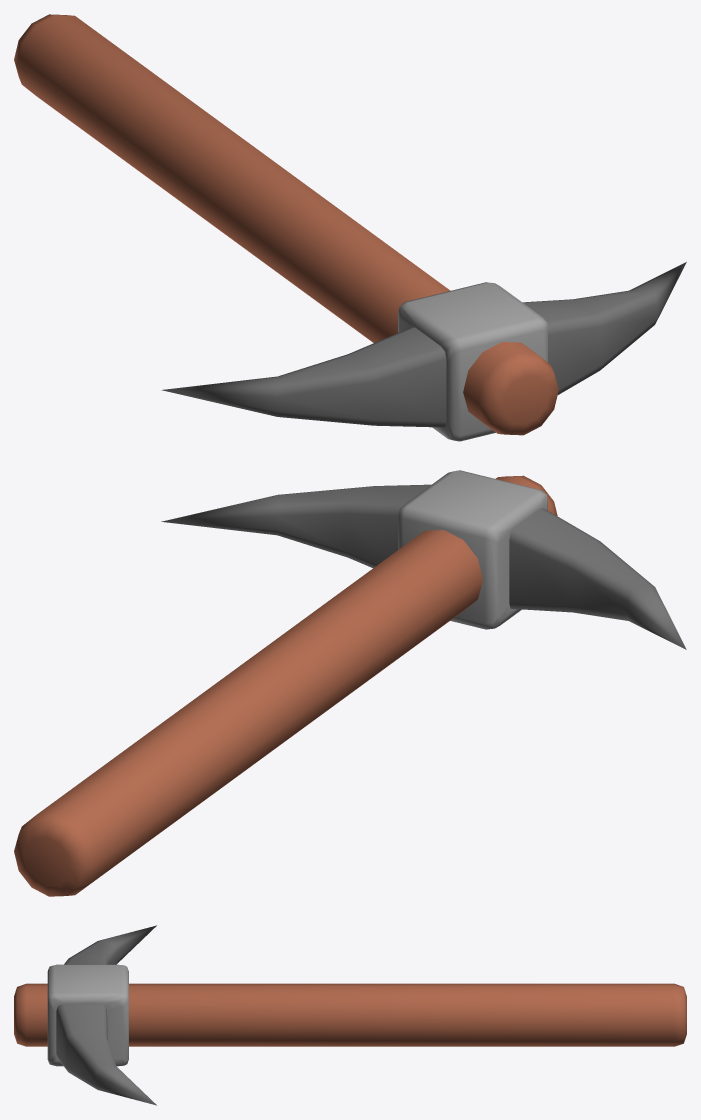
File: PickAxe.fbx
The picture shows the model from 3 angles, top to bottom: view 1: azimuth 30°, elevation 25°; view 2: azimuth 150°, elevation 25°; view 3: azimuth 270°, elevation 25°; orthographic projection. The views are drawn at different scales.
Parts seen in each view (by area): view 1: PickAxe; view 2: PickAxe; view 3: PickAxe.
Boxes of the visible parts, x1,y1,x2,y2 form: PickAxe: [14, 14, 686, 441]; PickAxe: [14, 470, 686, 896]; PickAxe: [14, 925, 686, 1105].
Bounding box in the file's own units: 451 × 84.73 × 711.
